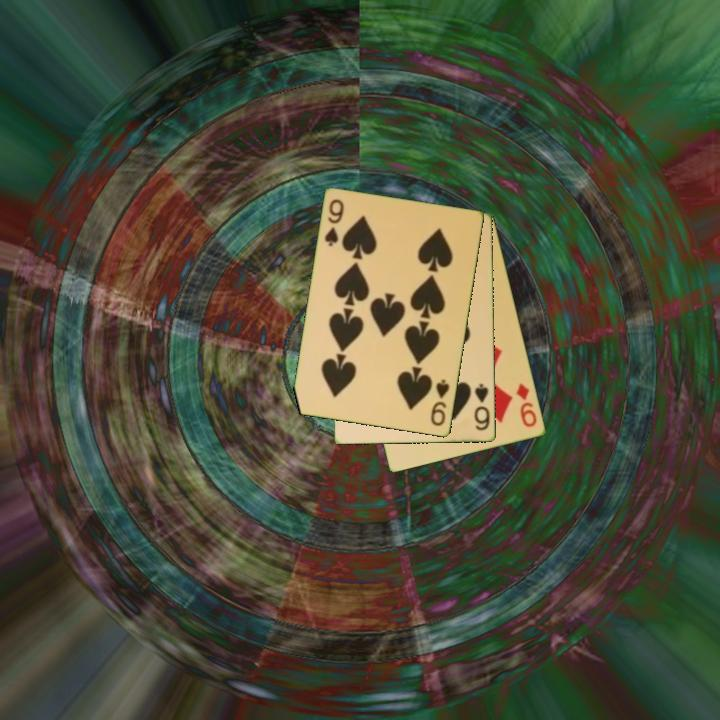6s: (471, 380, 493, 433)
9d: (513, 380, 540, 430)
9s: (427, 376, 453, 429), (321, 196, 347, 249)
